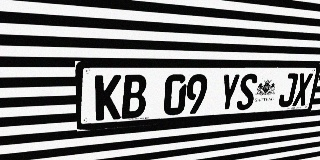0: (163, 74, 188, 116)
9: (184, 74, 209, 114)
B: (121, 75, 147, 119)
J: (277, 73, 299, 107)
K: (95, 75, 122, 121)
S: (236, 73, 258, 110)
X: (292, 73, 313, 106)
Y: (217, 74, 241, 112)
